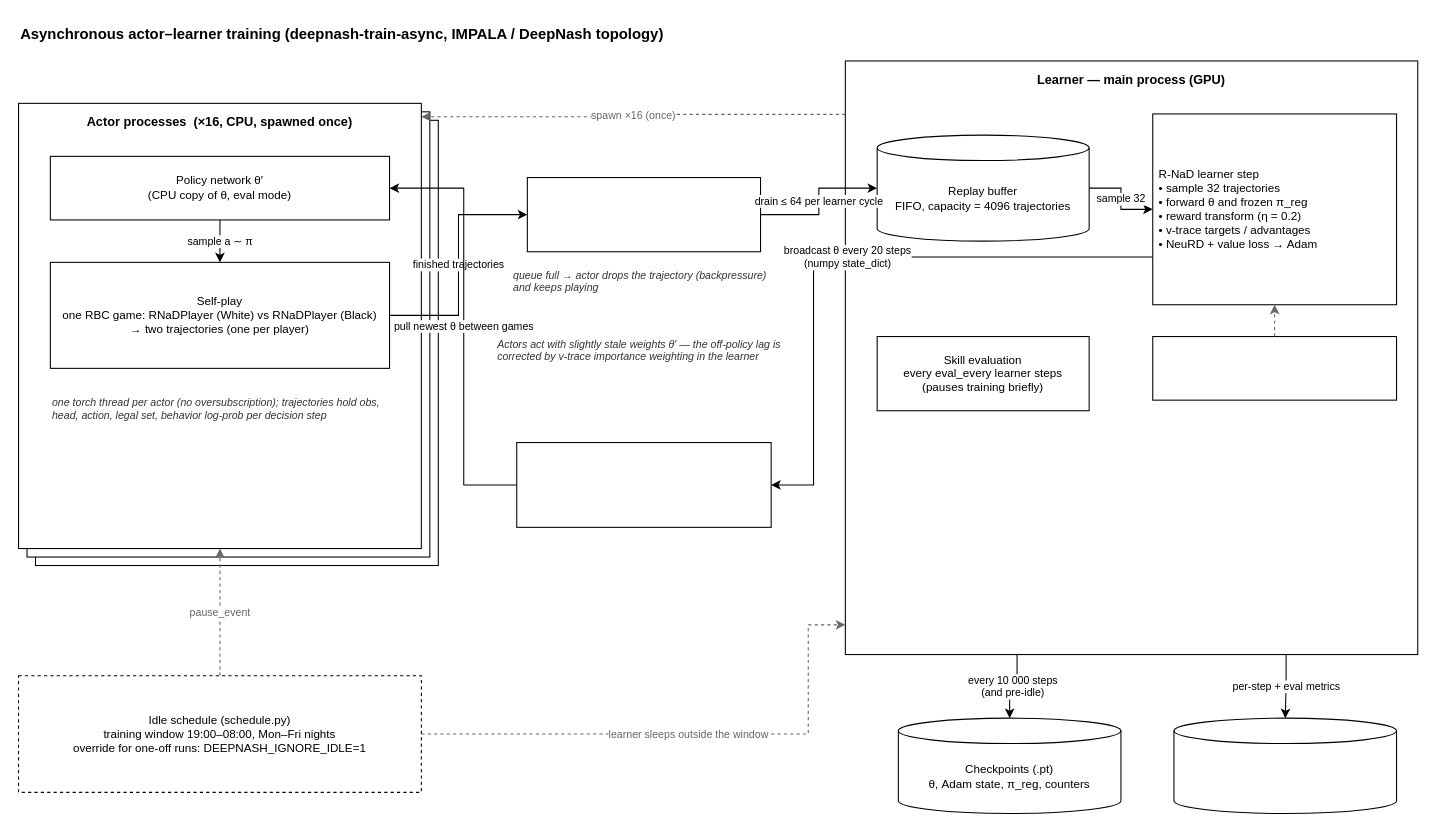
Image size: 1436x832. Some labels were removed from this diagram. Each missing label, with the centre of its shape:
Metrics log (.jsonl) loss, entropy, buffer, eval: (x=1285, y=765)
Per-actor weight queues (×16) mp.Queue, maxsize = 1 (latest snapshot only): (x=643, y=484)
Trajectory queue mp.Queue, maxsize = 256: (x=643, y=214)
π_reg ← θ every 1000 steps (one R-NaD iteration): (x=1274, y=367)
